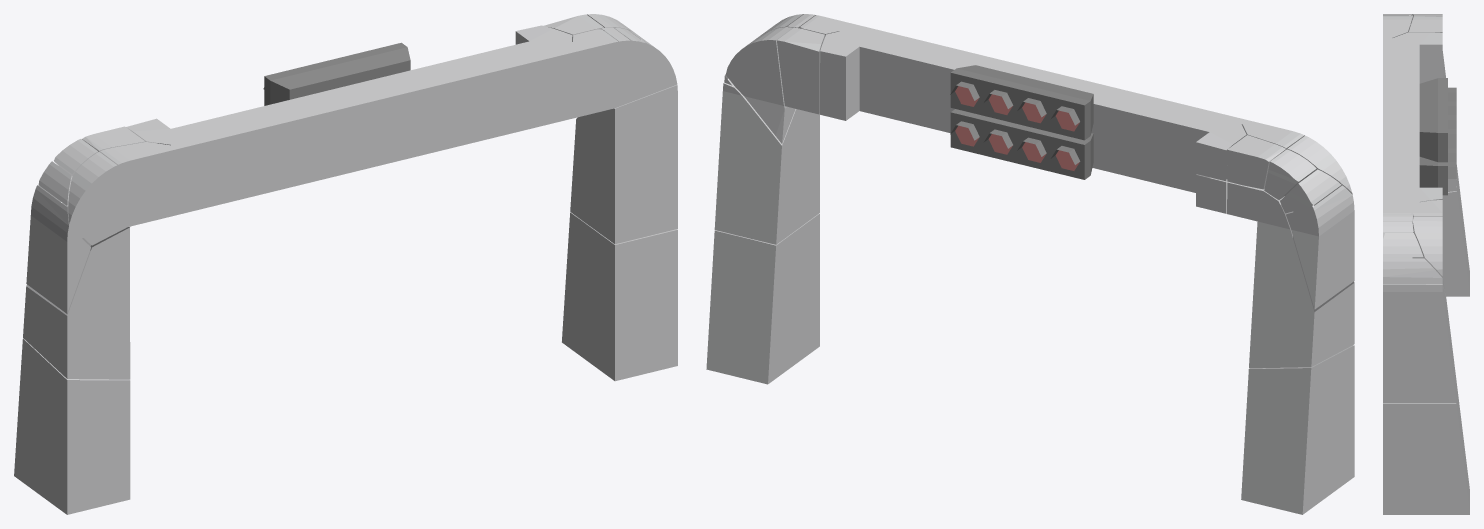
The model's file is overheadLights 1.fbx.
3 renders of one model, left to right at view 1: azimuth 30°, elevation 25°; view 2: azimuth 150°, elevation 25°; view 3: azimuth 270°, elevation 25°, orthographic. The views are drawn at different scales.
Parts seen in each view (by area): view 1: overheadLights, overheadLights.001_cell.008, overheadLights.002_cell.008, overheadLights.001_cell.003, overheadLights.002_cell.004, overheadLights.002_cell.007, overheadLights.002_cell.005, overheadLights.002_cell.009, overheadLights.002_cell, overheadLights.002_cell.003, overheadLights.002_cell.002, overheadLights.002_cell.001 (+1 smaller); view 2: overheadLights, overheadLights.002_cell.008, overheadLights.001_cell.008, overheadLights.001_cell.003, overheadLights.002_cell.004, overheadLights.002_cell.007, overheadLights.001_cell.007, overheadLights.001_cell.002, overheadLights.001_cell, overheadLights.002_cell.005, overheadLights.002_cell, overheadLights.002_cell.002 (+4 smaller); view 3: overheadLights, overheadLights.001_cell.008, overheadLights.001_cell.003, overheadLights.002_cell.008, overheadLights.002_cell.005, overheadLights.001_cell.009, overheadLights.001_cell.007, overheadLights.001_cell.006, overheadLights.002_cell, overheadLights.001_cell, overheadLights.001_cell.002, overheadLights.002_cell.001 (+5 smaller).
Part boxes in pixels (left/top/right/bottom): overheadLights: left=67, top=40, right=677, bottom=241; overheadLights.001_cell.008: left=562, top=212, right=677, bottom=381; overheadLights.002_cell.008: left=14, top=338, right=130, bottom=514; overheadLights.001_cell.003: left=570, top=84, right=677, bottom=244; overheadLights.002_cell.004: left=23, top=202, right=130, bottom=379; overheadLights.002_cell.007: left=26, top=185, right=90, bottom=313; overheadLights.002_cell.005: left=126, top=100, right=287, bottom=145; overheadLights.002_cell.009: left=68, top=152, right=116, bottom=223; overheadLights.002_cell: left=82, top=126, right=145, bottom=164; overheadLights.002_cell.003: left=38, top=161, right=72, bottom=206; overheadLights.002_cell.002: left=54, top=139, right=98, bottom=175; overheadLights.002_cell.001: left=100, top=142, right=169, bottom=164; overheadLights: left=770, top=14, right=1352, bottom=201; overheadLights.002_cell.008: left=1241, top=345, right=1354, bottom=514; overheadLights.001_cell.008: left=706, top=213, right=819, bottom=384; overheadLights.001_cell.003: left=714, top=79, right=819, bottom=244; overheadLights.002_cell.004: left=1227, top=182, right=1354, bottom=368; overheadLights.002_cell.007: left=1286, top=185, right=1354, bottom=309; overheadLights.001_cell.007: left=725, top=27, right=795, bottom=143; overheadLights.001_cell.002: left=777, top=27, right=824, bottom=114; overheadLights.001_cell: left=820, top=31, right=859, bottom=120; overheadLights.002_cell.005: left=1095, top=104, right=1246, bottom=181; overheadLights.002_cell: left=1227, top=135, right=1285, bottom=189; overheadLights.002_cell.002: left=1264, top=149, right=1316, bottom=199; overheadLights: left=1383, top=20, right=1456, bottom=257; overheadLights.001_cell.008: left=1383, top=380, right=1469, bottom=514; overheadLights.001_cell.003: left=1383, top=284, right=1456, bottom=402; overheadLights.002_cell.008: left=1412, top=165, right=1469, bottom=296; overheadLights.002_cell.005: left=1392, top=32, right=1442, bottom=91; overheadLights.001_cell.009: left=1383, top=258, right=1442, bottom=284; overheadLights.001_cell.007: left=1412, top=216, right=1445, bottom=295; overheadLights.001_cell.006: left=1383, top=233, right=1423, bottom=257; overheadLights.002_cell: left=1409, top=16, right=1442, bottom=32; overheadLights.001_cell: left=1401, top=187, right=1442, bottom=202; overheadLights.001_cell.002: left=1413, top=200, right=1442, bottom=257; overheadLights.002_cell.001: left=1383, top=16, right=1412, bottom=37.
Size of the model in its own units: 126 by 69.39 by 19.
